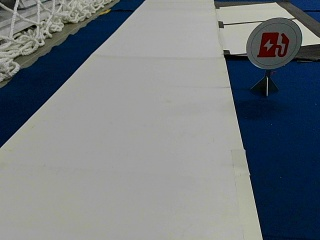battery: (246, 16, 301, 69)
